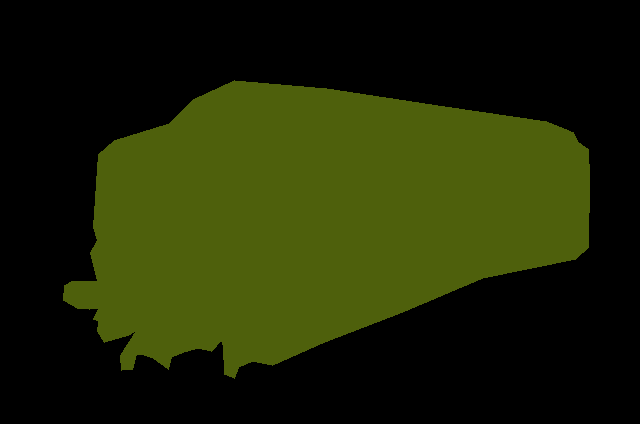Train: (63, 80, 589, 379)
